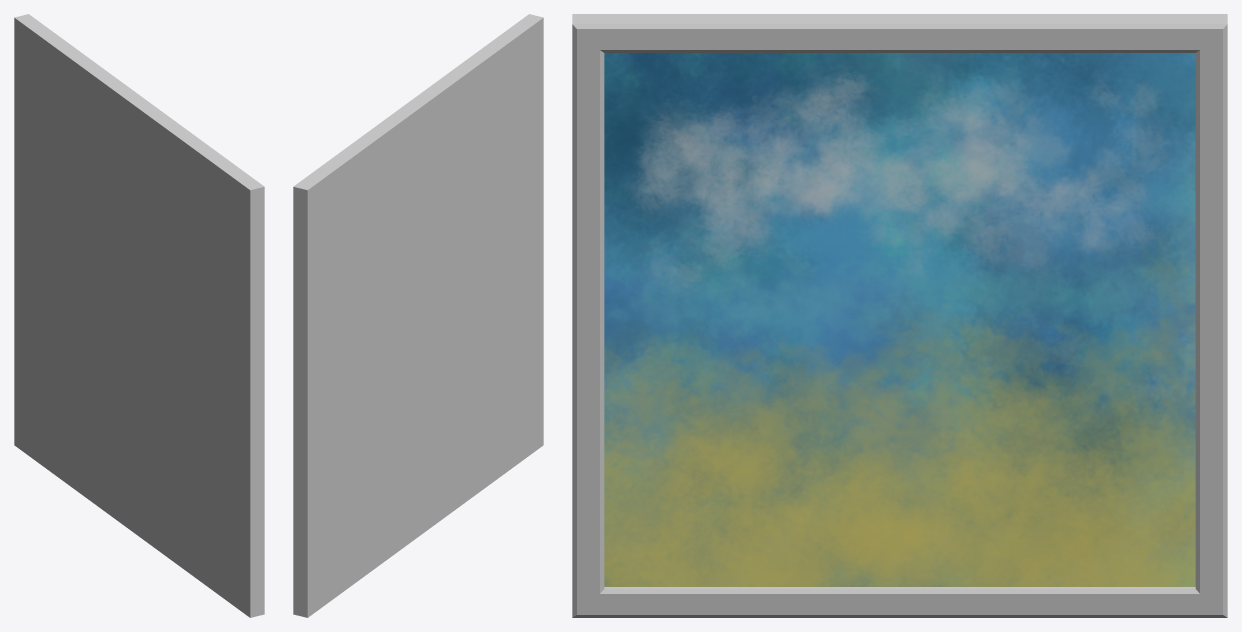
The model's file is PROPS_paint_01.FBX.
The picture shows the model from 3 angles, left to right: view 1: azimuth 30°, elevation 25°; view 2: azimuth 150°, elevation 25°; view 3: azimuth 270°, elevation 25°; orthographic projection. The views are drawn at different scales.
Parts seen in each view (by area): view 1: PROPS_paint_01; view 2: PROPS_paint_01; view 3: PROPS_paint_01_painting, PROPS_paint_01.
Boxes of the visible parts, x1=… form: PROPS_paint_01: x1=14, y1=14, x2=264, y2=617; PROPS_paint_01: x1=293, y1=14, x2=543, y2=617; PROPS_paint_01_painting: x1=604, y1=53, x2=1195, y2=586; PROPS_paint_01: x1=572, y1=14, x2=1227, y2=617.
Size of the model in its own units: 6.58 by 167 by 167.
Materials: 1 (1 with a texture image).
